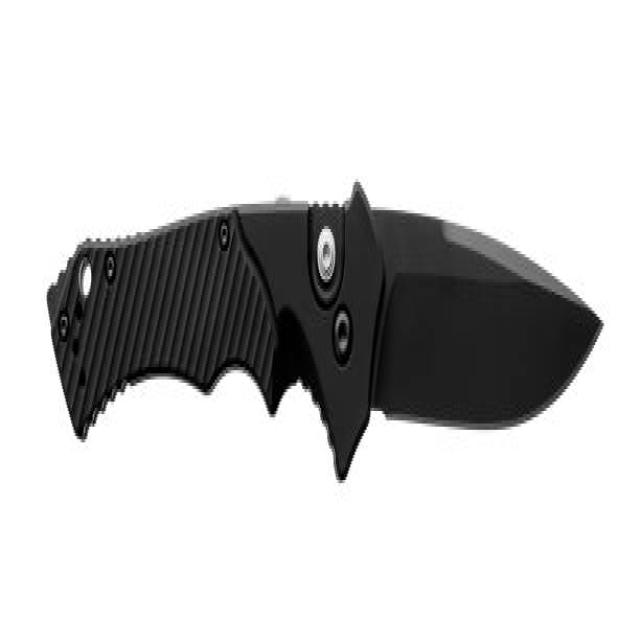knife: (48, 177, 607, 484)
